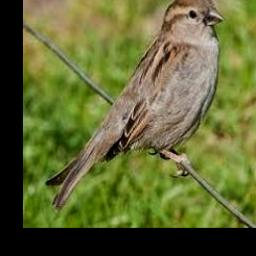Sparrow: (46, 0, 224, 209)
